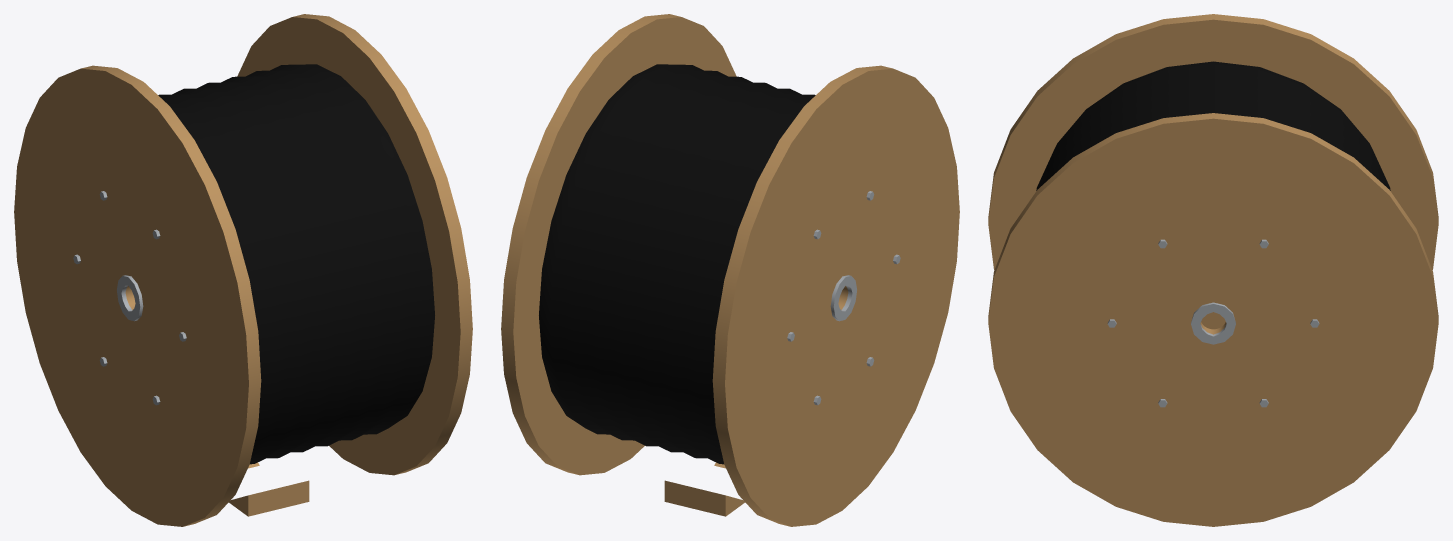
Rendered from plant.store.cable_drum_large.glb.
3 views of the same model, side by side, from view 1: azimuth 30°, elevation 25°; view 2: azimuth 150°, elevation 25°; view 3: azimuth 270°, elevation 25° (orthographic). The views are drawn at different scales.
Parts seen in each view (by area): view 1: main__softwood, main__plastic_black, main__steel_galvanised; view 2: main__softwood, main__plastic_black, main__steel_galvanised; view 3: main__softwood, main__plastic_black, main__steel_galvanised.
Boxes of the visible parts, <box> form: main__softwood: <box>14,14,472,526</box>; main__plastic_black: <box>158,64,434,464</box>; main__steel_galvanised: <box>73,191,186,405</box>; main__softwood: <box>501,14,959,526</box>; main__plastic_black: <box>539,64,815,464</box>; main__steel_galvanised: <box>787,191,900,405</box>; main__softwood: <box>988,14,1438,526</box>; main__plastic_black: <box>1036,61,1390,190</box>; main__steel_galvanised: <box>1107,239,1319,407</box>.
Size of the model in its own units: 1.13 by 2 by 2.
